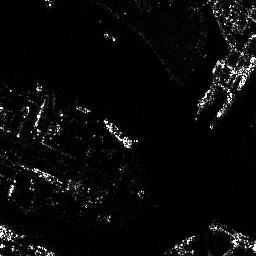ship: (209, 219, 256, 254), (102, 118, 132, 150)
